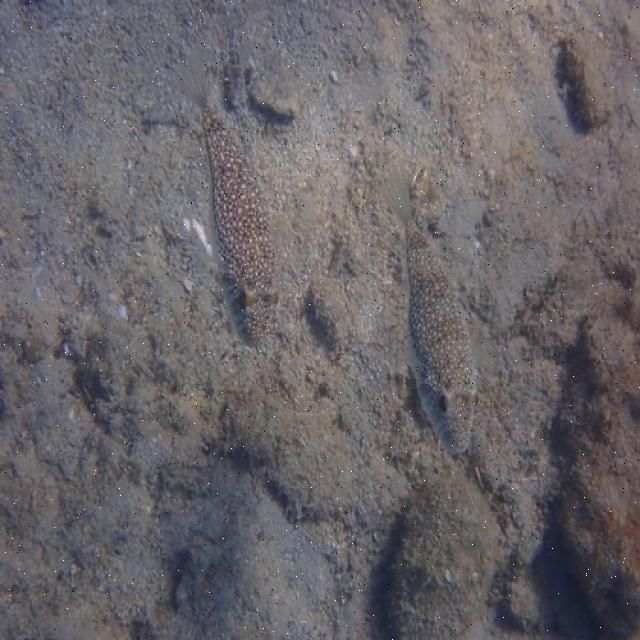Balik: (176, 43, 277, 344), (383, 169, 477, 453)
